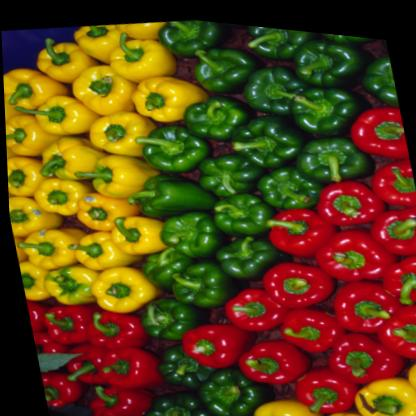bell_pepper: (284, 24, 378, 89), (225, 100, 304, 172), (66, 140, 153, 205), (309, 214, 390, 282), (254, 193, 335, 259), (254, 245, 335, 311), (319, 318, 401, 381), (184, 31, 261, 98), (131, 112, 210, 177), (284, 72, 363, 137), (291, 124, 376, 184), (98, 28, 181, 88), (86, 338, 168, 398), (306, 167, 382, 231), (191, 357, 272, 416), (173, 311, 250, 373), (74, 102, 154, 161), (175, 82, 256, 140), (230, 325, 305, 386), (282, 355, 358, 415), (75, 298, 151, 358), (237, 56, 310, 118), (250, 150, 320, 213), (343, 91, 408, 158), (81, 256, 152, 317), (191, 143, 264, 201), (215, 276, 286, 333), (129, 292, 202, 347), (144, 203, 219, 255), (269, 293, 335, 352), (201, 184, 274, 237), (345, 362, 416, 416), (162, 254, 230, 310), (236, 19, 317, 65), (128, 70, 195, 125), (154, 13, 233, 57), (360, 196, 416, 256), (100, 208, 167, 258), (367, 294, 416, 359), (363, 148, 416, 206), (228, 381, 315, 416), (206, 228, 265, 279), (134, 379, 215, 416), (63, 227, 127, 273), (374, 241, 416, 305), (355, 46, 399, 107), (310, 394, 372, 416), (404, 339, 416, 395)
